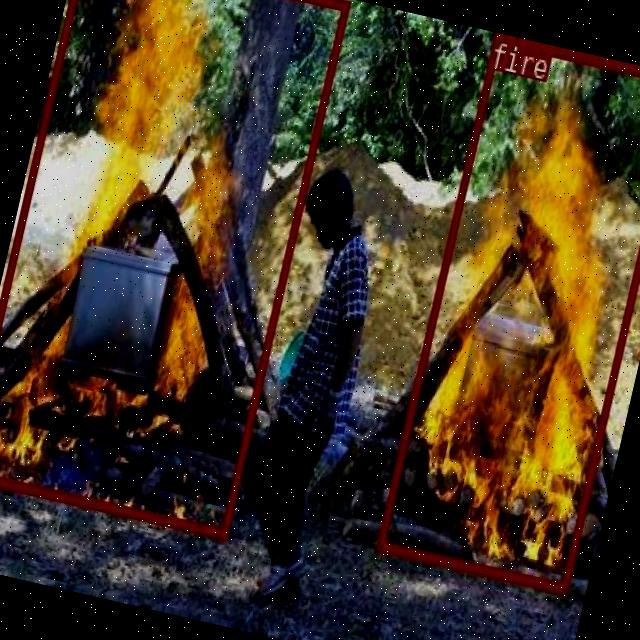fire: (0, 0, 348, 537), (375, 32, 640, 593)
